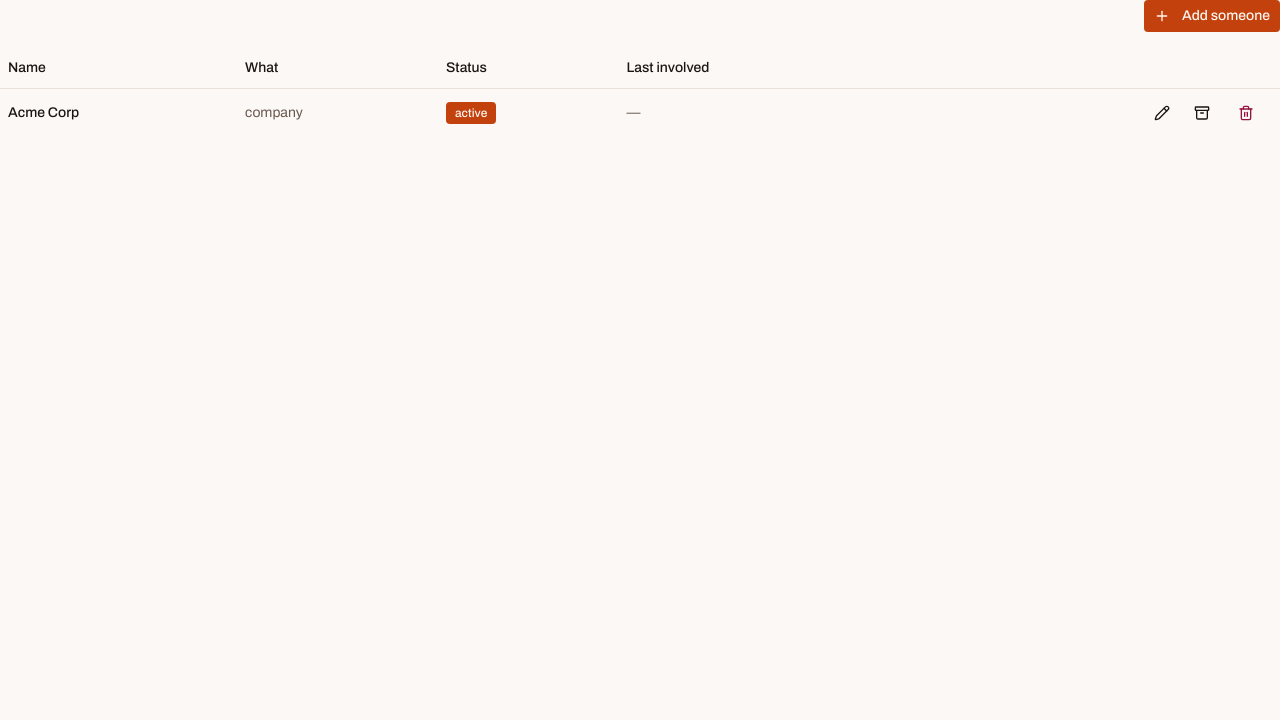
Test: EntitiesView › closes the edit dialog on escape and resets which row was being edited
The width and height of the screenshot is (1280, 720).
Step 1. Click the button named "Edit Acme Corp" → x=1162, y=112, box [1144,96,1180,128]
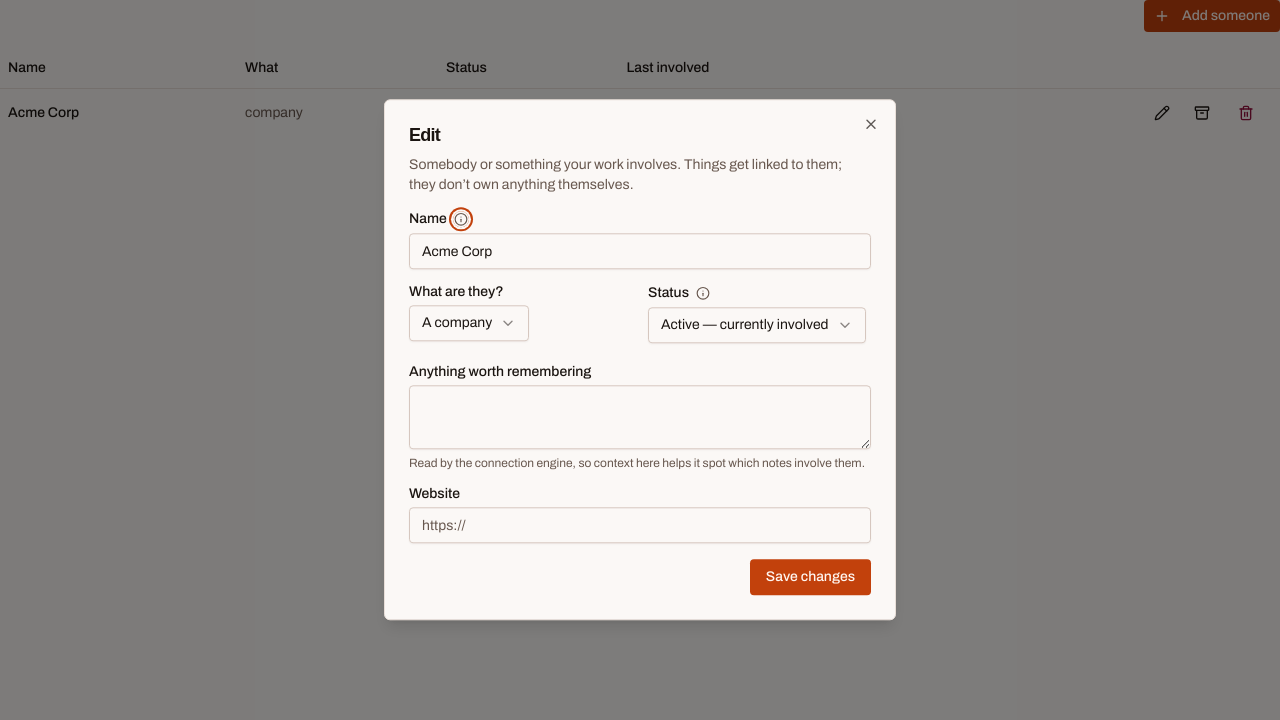
Check: the dialog is shown, box [384,99,896,621]
Step 2. Press Escape
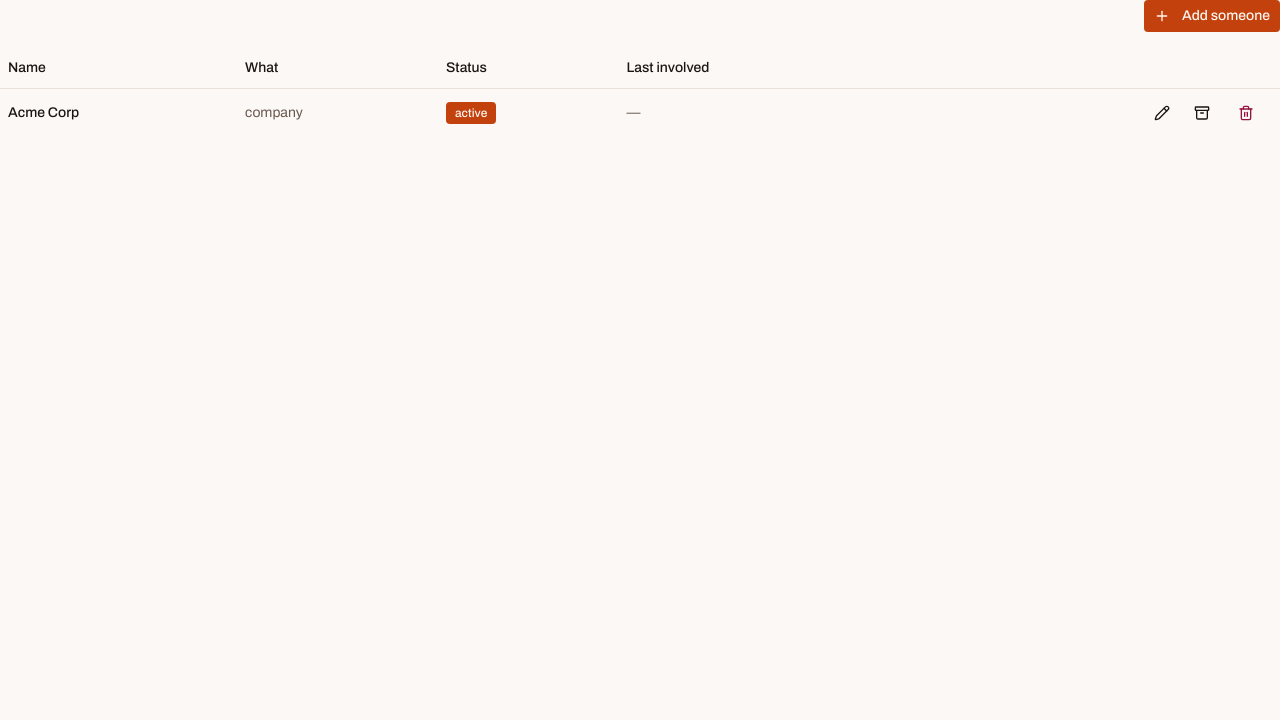
Check: the dialog is gone
